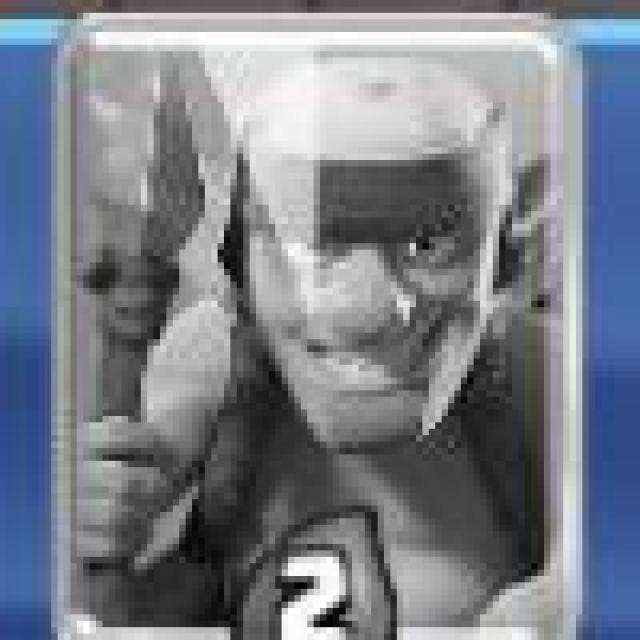Spear_Goblins: (50, 6, 580, 640)
